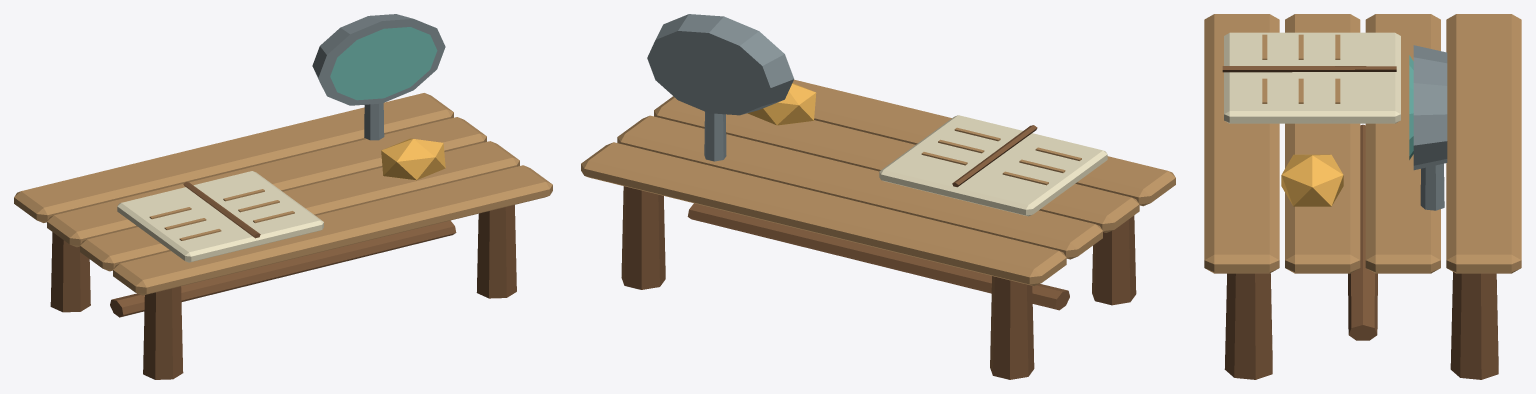
The model's file is CC_ResearchDesk.fbx.
3 renders of one model, left to right at view 1: azimuth 30°, elevation 25°; view 2: azimuth 150°, elevation 25°; view 3: azimuth 270°, elevation 25°, orthographic. The views are drawn at different scales.
Visible parts, largest first — view 1: Plank.020, Plank.023, Open journal, Plank.022, Plank.021, Lens face, Brace.005, Lens rim, Leg.024, Leg.026, Leg.025, Specimen (+2 smaller); view 2: Plank.023, Plank.022, Open journal, Lens rim, Plank.021, Plank.020, Brace.005, Leg.025, Leg.027, Leg.024, Specimen, Lens stand (+1 smaller); view 3: Plank.023, Open journal, Plank.020, Plank.022, Plank.021, Leg.027, Leg.026, Lens rim, Brace.005, Specimen, Journal spine, Lens stand (+1 smaller).
Boxes of the visible parts, x1,y1,x2,y2 form: Plank.020: [113, 165, 552, 295]; Plank.023: [14, 93, 453, 222]; Open journal: [117, 171, 323, 262]; Plank.022: [47, 117, 486, 247]; Plank.021: [80, 141, 519, 271]; Lens face: [330, 27, 437, 100]; Brace.005: [110, 220, 456, 317]; Lens rim: [312, 14, 445, 105]; Leg.024: [143, 286, 183, 379]; Leg.026: [476, 205, 516, 298]; Leg.025: [50, 232, 90, 312]; Specimen: [381, 138, 445, 180]; Plank.023: [581, 142, 1066, 285]; Plank.022: [617, 115, 1102, 259]; Open journal: [879, 115, 1107, 216]; Lens rim: [647, 14, 793, 115]; Plank.021: [654, 96, 1139, 232]; Plank.020: [792, 79, 1175, 206]; Brace.005: [687, 203, 1069, 310]; Leg.025: [990, 276, 1034, 379]; Leg.027: [621, 186, 665, 289]; Leg.024: [1092, 215, 1136, 305]; Specimen: [747, 83, 816, 125]; Lens stand: [704, 111, 726, 161]; Plank.023: [1446, 14, 1521, 273]; Open journal: [1224, 32, 1400, 123]; Plank.020: [1204, 14, 1279, 273]; Plank.022: [1365, 14, 1440, 273]; Plank.021: [1285, 14, 1360, 273]; Leg.027: [1450, 272, 1498, 379]; Leg.026: [1224, 273, 1272, 379]; Lens rim: [1413, 45, 1447, 170]; Brace.005: [1348, 124, 1377, 340]; Specimen: [1281, 154, 1343, 206]; Journal spine: [1222, 66, 1396, 72]; Lens stand: [1420, 163, 1444, 210].
Bounding box in the file's own units: 3.15 × 1.67 × 1.7.
